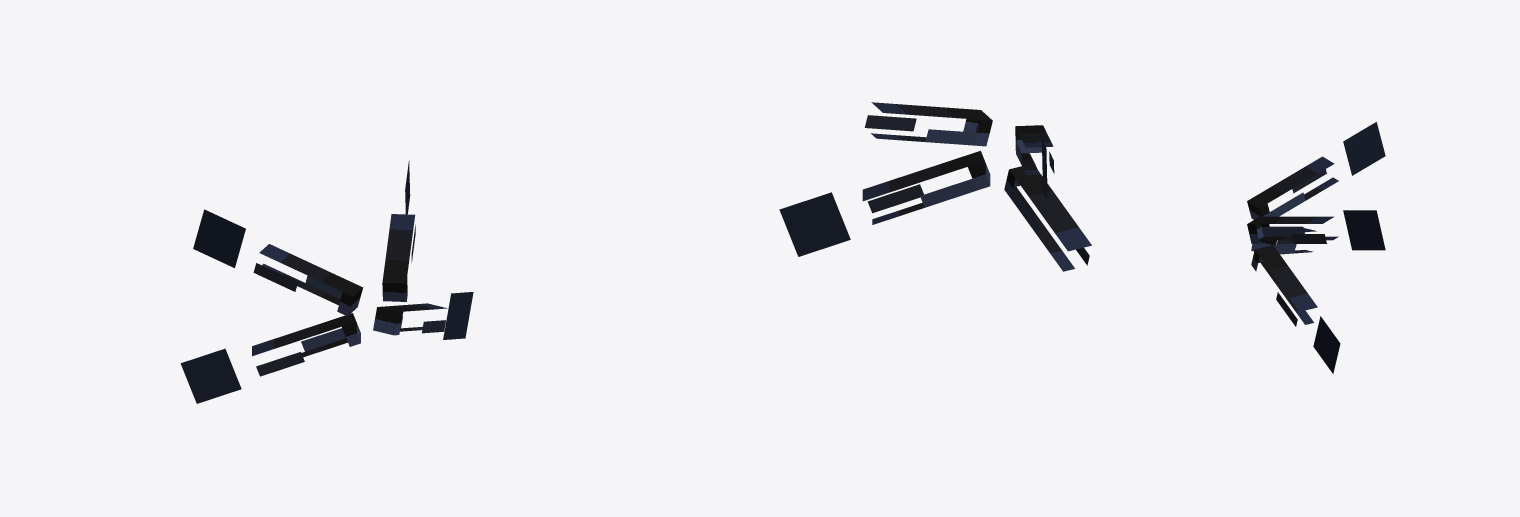
Rendered from sl_ender_tentacles.glb.
The picture shows the model from 3 angles, left to right: view 1: azimuth 30°, elevation 25°; view 2: azimuth 150°, elevation 25°; view 3: azimuth 270°, elevation 25°; orthographic projection. The views are drawn at different scales.
Parts seen in each view (by area): view 1: bb_ender_tentacles; view 2: bb_ender_tentacles; view 3: bb_ender_tentacles.
Boxes of the visible parts, x1,y1,x2,y2 form: bb_ender_tentacles: [180, 160, 473, 403]; bb_ender_tentacles: [779, 102, 1091, 271]; bb_ender_tentacles: [1247, 122, 1385, 373].
Size of the model in its own units: 3.28 by 2.06 by 1.53.
1 material, 1 textured.
